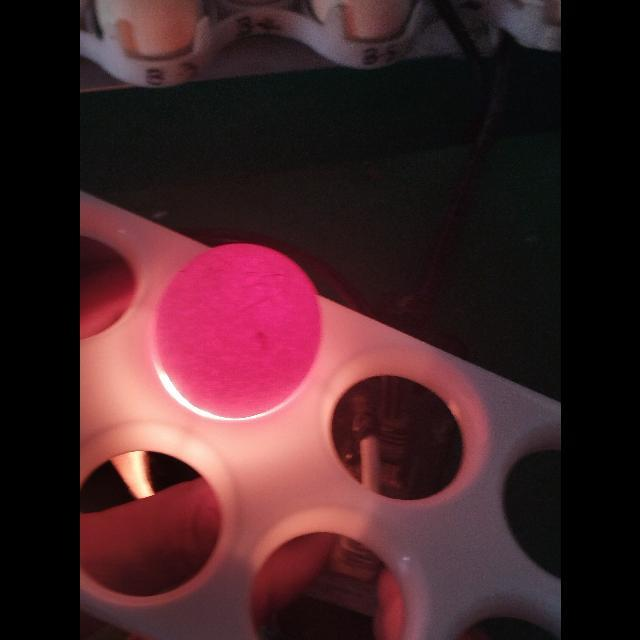Infertile: (148, 236, 320, 424)
